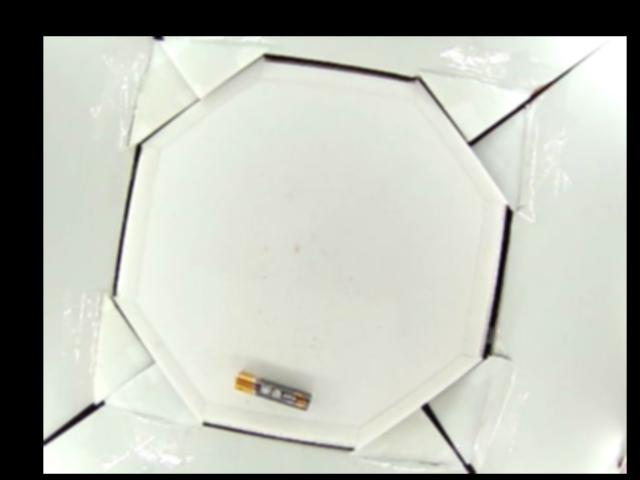Battery: (233, 369, 314, 409)
